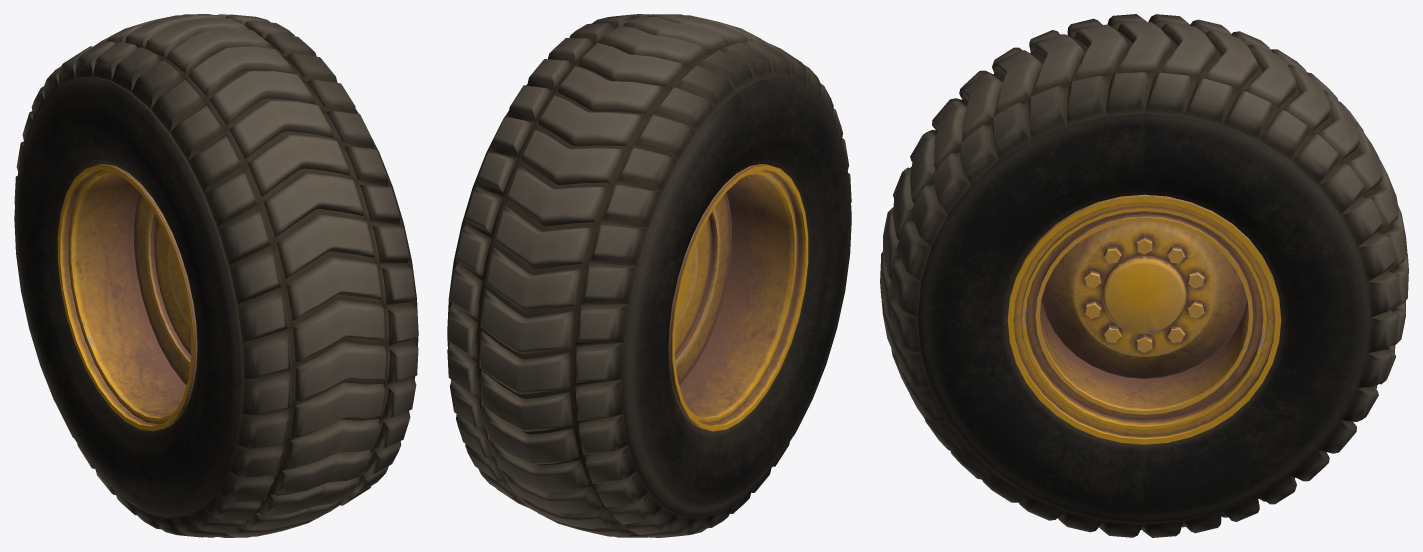
Rendered from frontlefttireoptimized.glb.
The picture shows the model from 3 angles, left to right: view 1: azimuth 30°, elevation 25°; view 2: azimuth 150°, elevation 25°; view 3: azimuth 270°, elevation 25°; orthographic projection.
Parts seen in each view (by area): view 1: 004; view 2: 004; view 3: 004.
Boxes of the visible parts, bbox=[...] form: 004: bbox=[14, 14, 418, 537]; 004: bbox=[447, 14, 851, 537]; 004: bbox=[880, 14, 1408, 537].
Size of the model in its own units: 28.06 by 64.44 by 64.44.
1 material, 1 textured.
